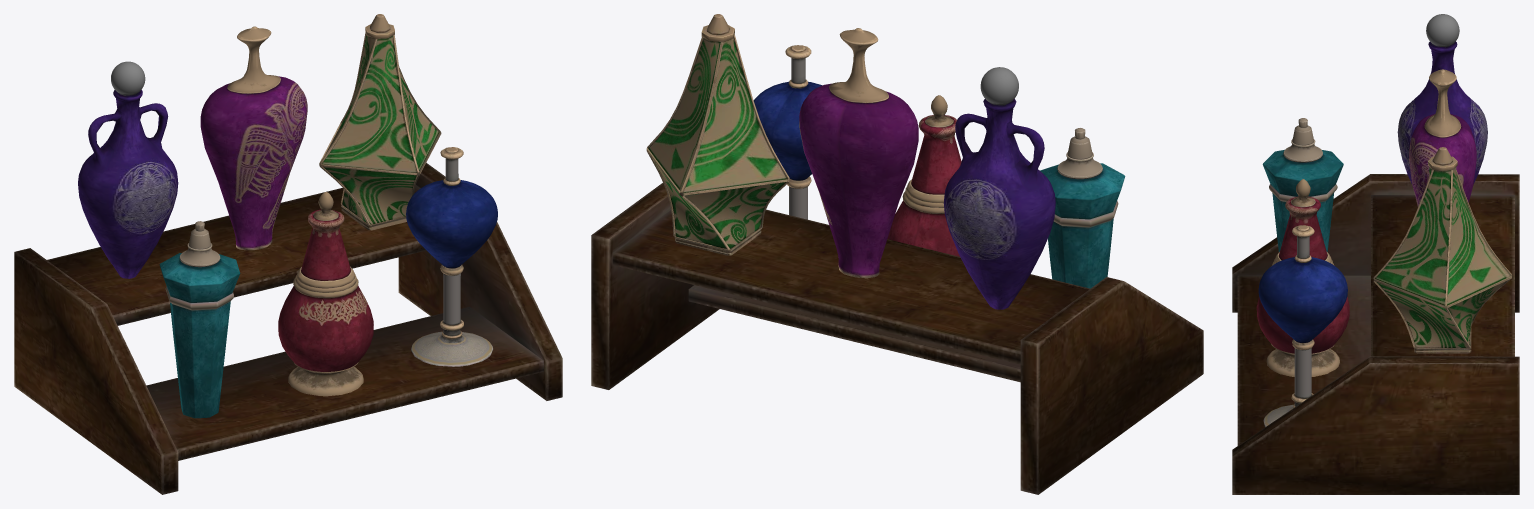
Rendered from potions2.glb.
The picture shows the model from 3 angles, left to right: view 1: azimuth 30°, elevation 25°; view 2: azimuth 150°, elevation 25°; view 3: azimuth 270°, elevation 25°; orthographic projection. The views are drawn at different scales.
Parts seen in each view (by area): view 1: Shelf01_shelf_mt_0, Potion04_potion04_glass_0, Potion07_potion07_glass_0, Potion06_potion06_glass_0, Potion01_potion01_glass_0, Potion03_potion03_glass_0, Potion02_potion02_glass_0, Potion02_potion02_metal_0, Potion01_potion01_metal_0, Potion06_potion06_metal_0, Potion04_potion04_metal_0, Potion03_potion03_metal_0 (+1 smaller); view 2: Shelf01_shelf_mt_0, Potion06_potion06_glass_0, Potion04_potion04_glass_0, Potion07_potion07_glass_0, Potion03_potion03_glass_0, Potion01_potion01_glass_0, Potion06_potion06_metal_0, Potion02_potion02_glass_0, Potion04_potion04_metal_0, Potion02_potion02_metal_0, Potion01_potion01_metal_0, Potion03_potion03_metal_0 (+1 smaller); view 3: Shelf01_shelf_mt_0, Potion06_potion06_glass_0, Potion02_potion02_glass_0, Potion03_potion03_glass_0, Potion07_potion07_glass_0, Potion01_potion01_glass_0, Potion04_potion04_glass_0, Potion06_potion06_metal_0, Potion02_potion02_metal_0, Potion01_potion01_metal_0, Potion04_potion04_metal_0, Potion03_potion03_metal_0 (+1 smaller).
Boxes of the visible parts, box(x1,y1,x2,y2) form: Shelf01_shelf_mt_0: box(14, 163, 562, 494); Potion04_potion04_glass_0: box(200, 76, 307, 250); Potion07_potion07_glass_0: box(78, 90, 178, 278); Potion06_potion06_glass_0: box(322, 35, 439, 224); Potion01_potion01_glass_0: box(278, 209, 373, 371); Potion03_potion03_glass_0: box(159, 253, 240, 418); Potion02_potion02_glass_0: box(406, 180, 497, 268); Potion02_potion02_metal_0: box(411, 147, 492, 366); Potion01_potion01_metal_0: box(288, 192, 363, 396); Potion06_potion06_metal_0: box(319, 14, 441, 230); Potion04_potion04_metal_0: box(227, 26, 280, 93); Potion03_potion03_metal_0: box(179, 221, 220, 267); Shelf01_shelf_mt_0: box(591, 183, 1203, 494); Potion06_potion06_glass_0: box(648, 38, 786, 248); Potion04_potion04_glass_0: box(799, 83, 918, 278); Potion07_potion07_glass_0: box(943, 98, 1055, 309); Potion03_potion03_glass_0: box(1040, 163, 1125, 288); Potion01_potion01_glass_0: box(887, 115, 961, 256); Potion06_potion06_metal_0: box(646, 14, 789, 255); Potion02_potion02_glass_0: box(753, 81, 822, 180); Potion04_potion04_metal_0: box(829, 28, 888, 103); Potion02_potion02_metal_0: box(785, 45, 811, 219); Potion01_potion01_metal_0: box(902, 95, 953, 213); Potion03_potion03_metal_0: box(1057, 128, 1102, 179); Shelf01_shelf_mt_0: box(1232, 174, 1519, 494); Potion06_potion06_glass_0: box(1375, 167, 1510, 347); Potion02_potion02_glass_0: box(1258, 257, 1347, 342); Potion03_potion03_glass_0: box(1262, 149, 1343, 251); Potion07_potion07_glass_0: box(1397, 41, 1487, 183); Potion01_potion01_glass_0: box(1256, 196, 1349, 353); Potion04_potion04_glass_0: box(1409, 113, 1476, 206); Potion06_potion06_metal_0: box(1373, 147, 1512, 353); Potion02_potion02_metal_0: box(1263, 225, 1314, 426); Potion01_potion01_metal_0: box(1266, 179, 1339, 376); Potion04_potion04_metal_0: box(1424, 69, 1461, 137); Potion03_potion03_metal_0: box(1283, 118, 1322, 162).
Bounding box in the file's own units: 48.59 × 39.3 × 31.06.
13 materials, 13 textured.
